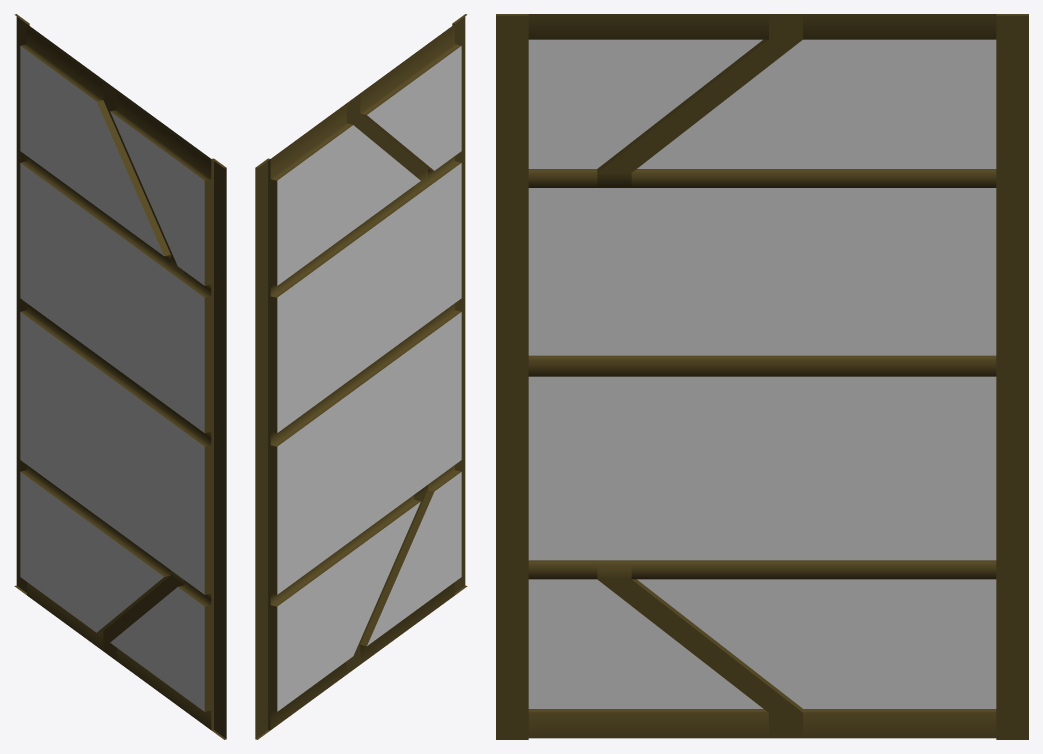
Rendered from GB_Wall_3Stripe_2M_V2.fbx.
The picture shows the model from 3 angles, left to right: view 1: azimuth 30°, elevation 25°; view 2: azimuth 150°, elevation 25°; view 3: azimuth 270°, elevation 25°; orthographic projection. The views are drawn at different scales.
Visible parts, largest first — view 1: HalfWall_Plaster_1; view 2: HalfWall_Plaster_1; view 3: HalfWall_Plaster_1.
Part boxes in pixels (x1,y1,x2,y2): HalfWall_Plaster_1: (14, 14, 226, 739); HalfWall_Plaster_1: (255, 14, 467, 739); HalfWall_Plaster_1: (496, 14, 1028, 739).
Size of the model in its own units: 0.05 by 3 by 2.
